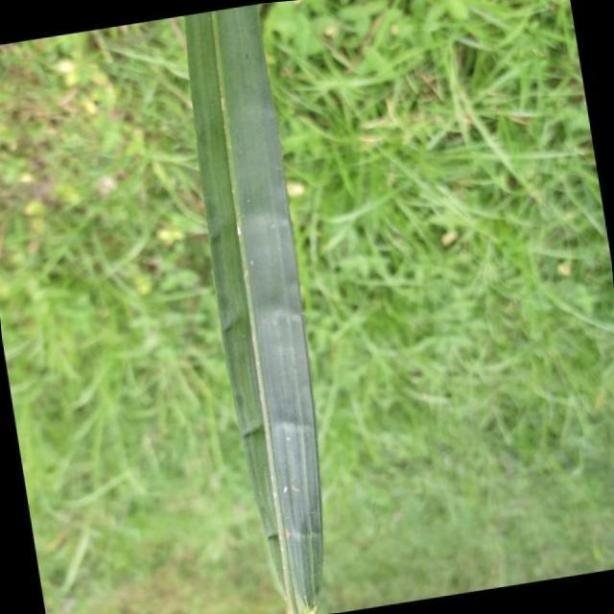Boron: (182, 5, 326, 614)
